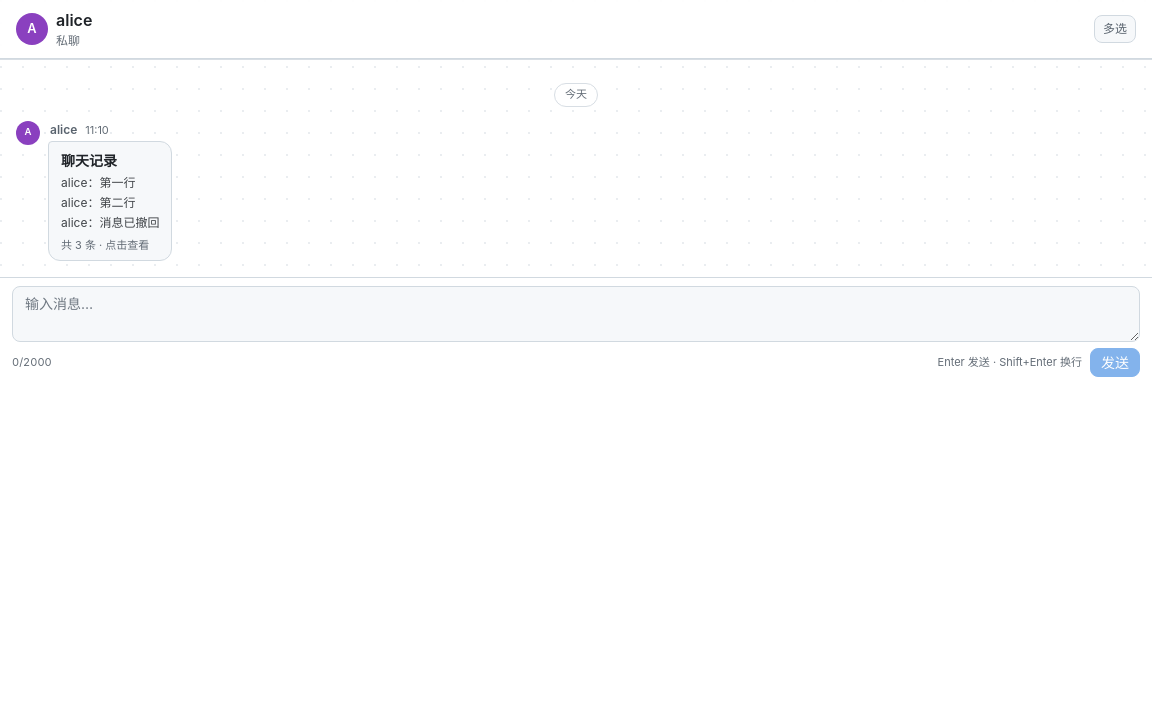
ChatThread › 合并转发渲染聊天记录卡片，点击打开只读记录
The width and height of the screenshot is (1152, 720).
Expected: the text "共 3 条 · 点击查看" is shown, x1=61 y1=236 x2=149 y2=252
Click the button with aria-label "查看聊天记录" at x=110, y=201, box x1=48 y1=141 x2=172 y2=261
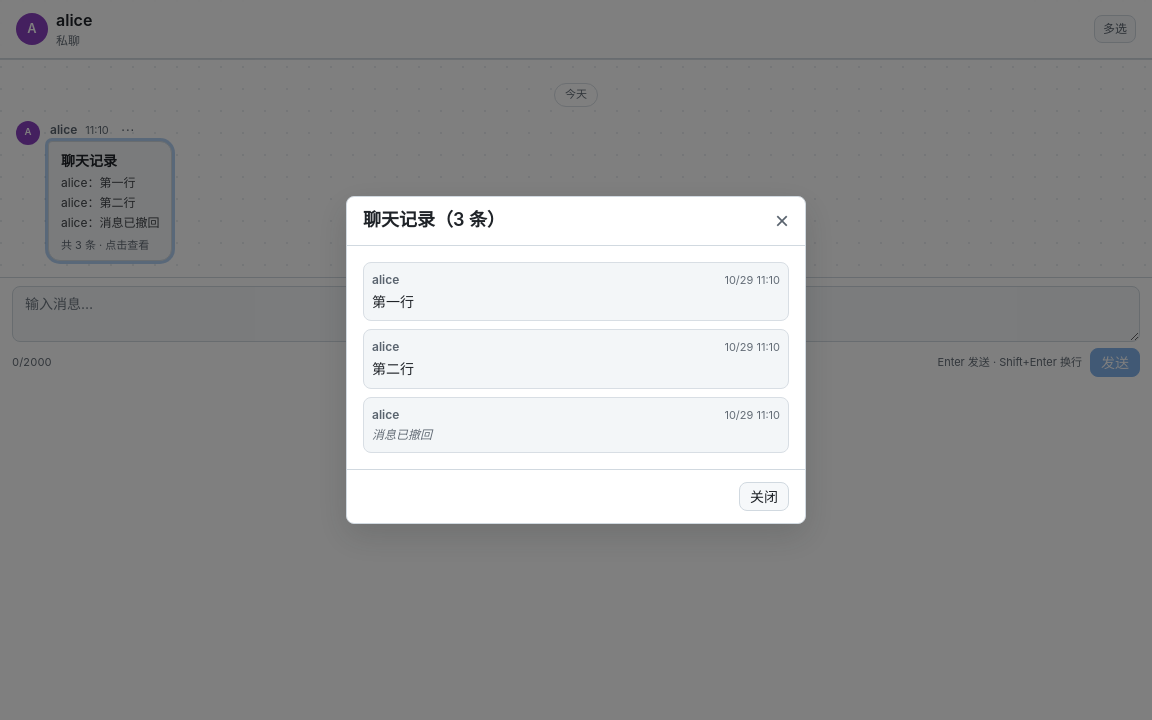
Now the dialog "聊天记录" shows "第一行", box x1=372 y1=292 x2=414 y2=310
Now the dialog "聊天记录" shows "消息已撤回", box x1=372 y1=427 x2=432 y2=442
Now the heading "聊天记录（3 条）" is shown, box x1=363 y1=209 x2=505 y2=232
